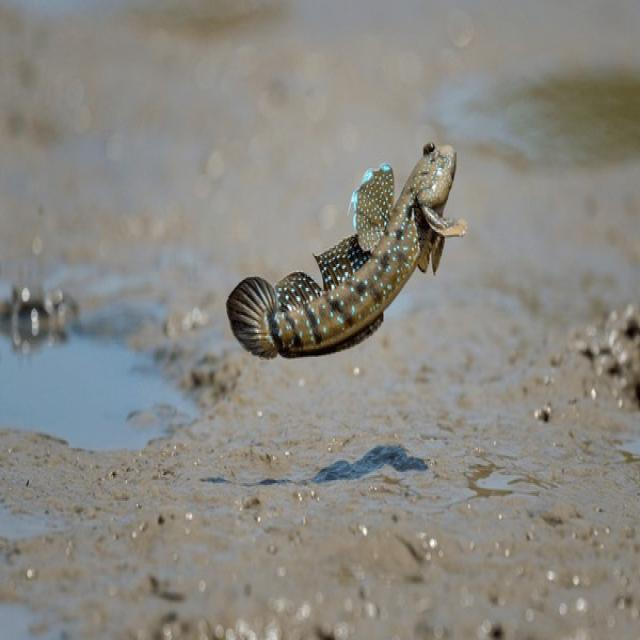Mudskipper: (225, 139, 467, 360)
